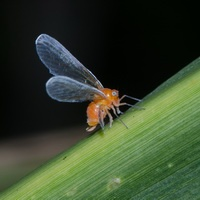insect: (35, 34, 142, 131)
